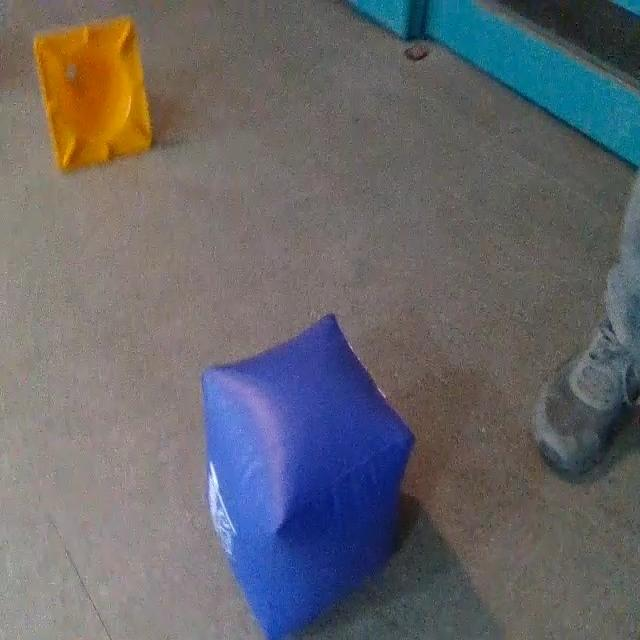cone: (34, 10, 154, 178)
cube: (199, 314, 413, 640)
